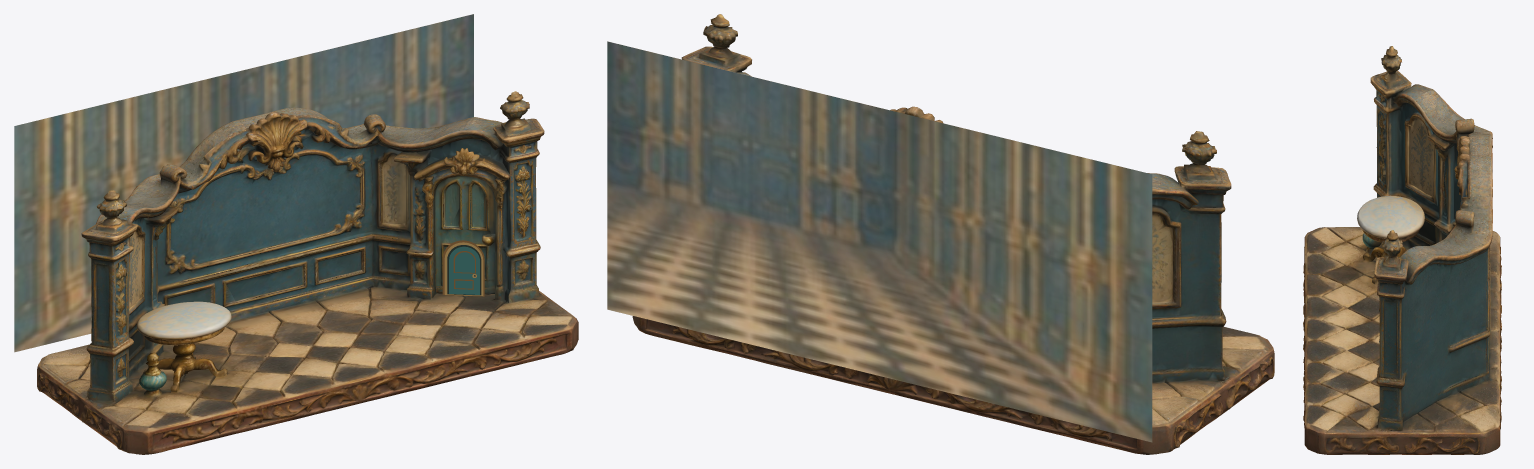
File: hall-stage.glb
3 views of the same model, side by side, from view 1: azimuth 30°, elevation 25°; view 2: azimuth 150°, elevation 25°; view 3: azimuth 270°, elevation 25° (orthographic). The views are drawn at different scales.
Parts seen in each view (by area): view 1: tripo_node_5366c191-92d7-4cac-b249-662a47468b72, Scenic flat, Brass framed wicket; view 2: Scenic flat, tripo_node_5366c191-92d7-4cac-b249-662a47468b72; view 3: tripo_node_5366c191-92d7-4cac-b249-662a47468b72.
Part boxes in pixels (x1,y1,x2,y2): tripo_node_5366c191-92d7-4cac-b249-662a47468b72: (37,91,578,454); Scenic flat: (14,14,473,352); Brass framed wicket: (442,240,484,296); Scenic flat: (607,41,1152,442); tripo_node_5366c191-92d7-4cac-b249-662a47468b72: (632,14,1274,454); tripo_node_5366c191-92d7-4cac-b249-662a47468b72: (1303,46,1501,454).
Bounding box in the file's own units: 5.4 × 2.83 × 2.36.
6 materials, 2 textured.
